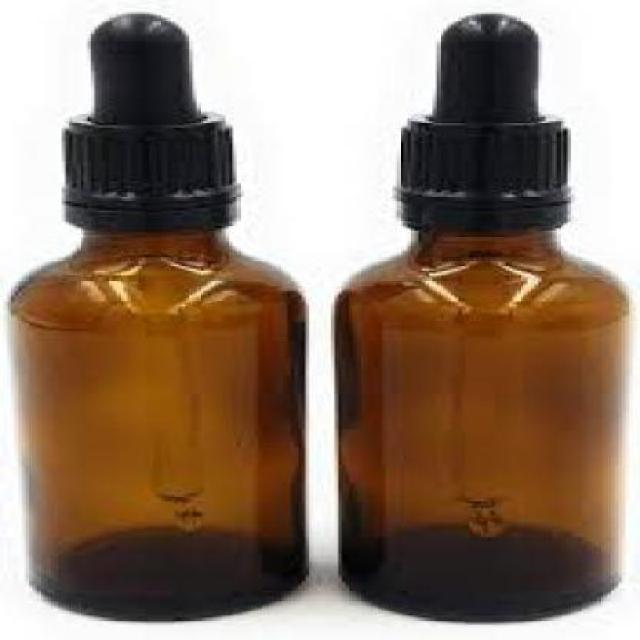kaca: (8, 231, 309, 617), (331, 228, 626, 620)
